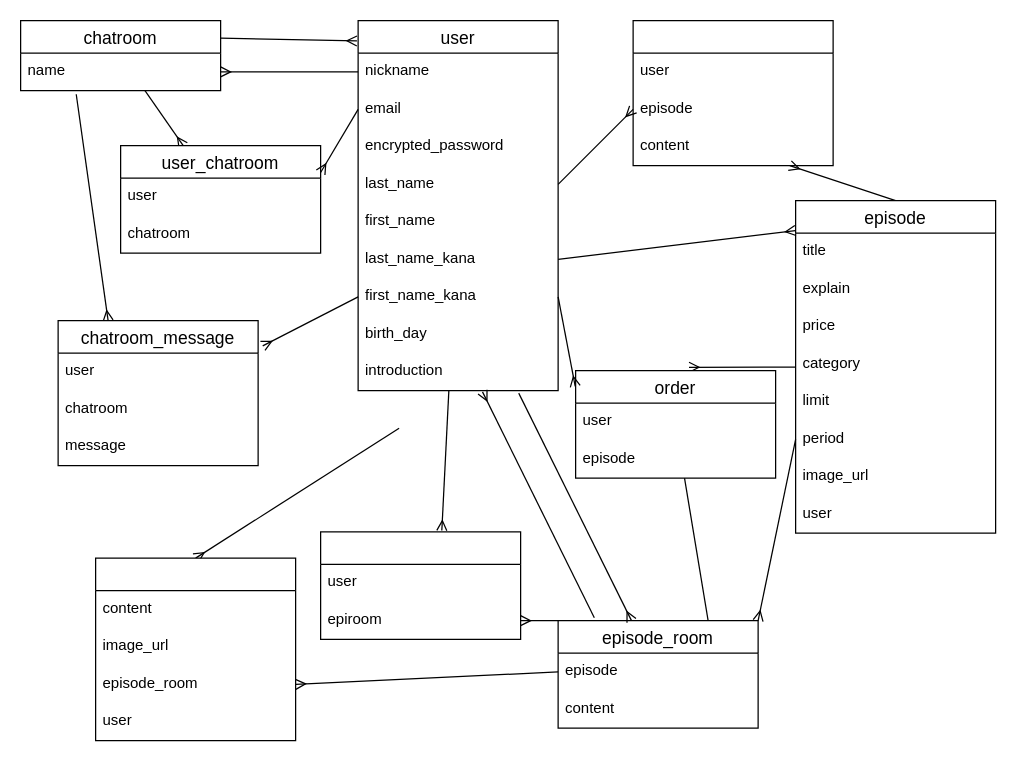
Image size: 1016x761. Some labels were removed from this diagram. Each missing label, with the box of its shape:
chat: (94, 557, 296, 741)
episode_comment: (632, 19, 833, 166)
episode_room_user: (319, 531, 521, 639)
